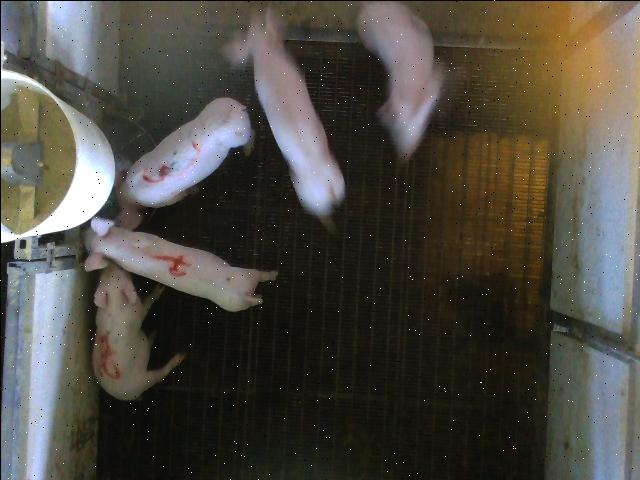pig-3: (115, 97, 252, 229)
pig-4: (84, 217, 276, 311)
pig-5: (91, 262, 185, 399)
